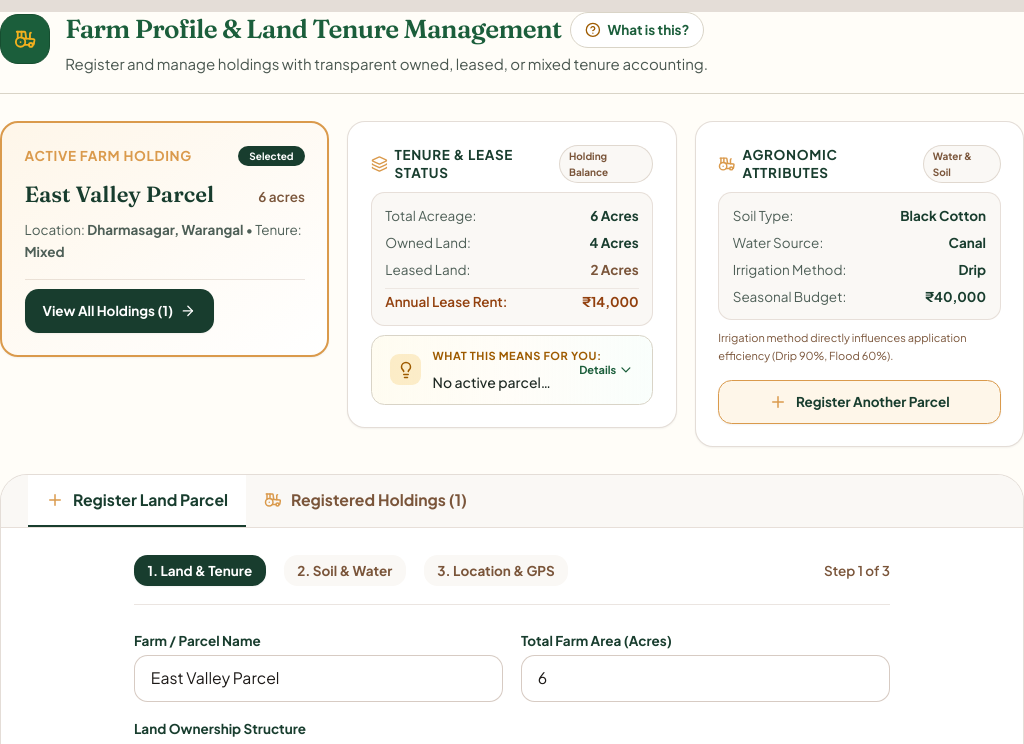
Phase 5: State & District Cascading Dropdowns with Verified Coordinates › changing state resets district to the first district of the new state and updates coordinates
# Jump to Step 3
Click the button "3. Location & GPS" at [496, 571], box [424,555,568,586]
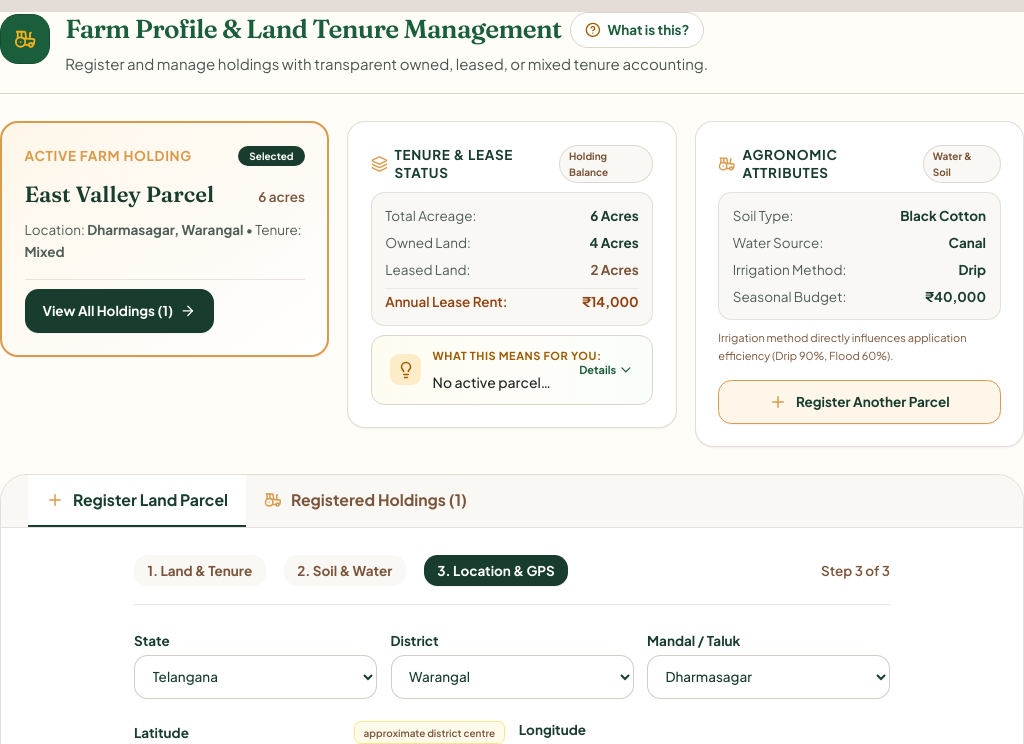
# Change state to Andhra Pradesh
Select "Andhra Pradesh" in the dropdown labelled "State" at [256, 677], box [134,655,377,699]
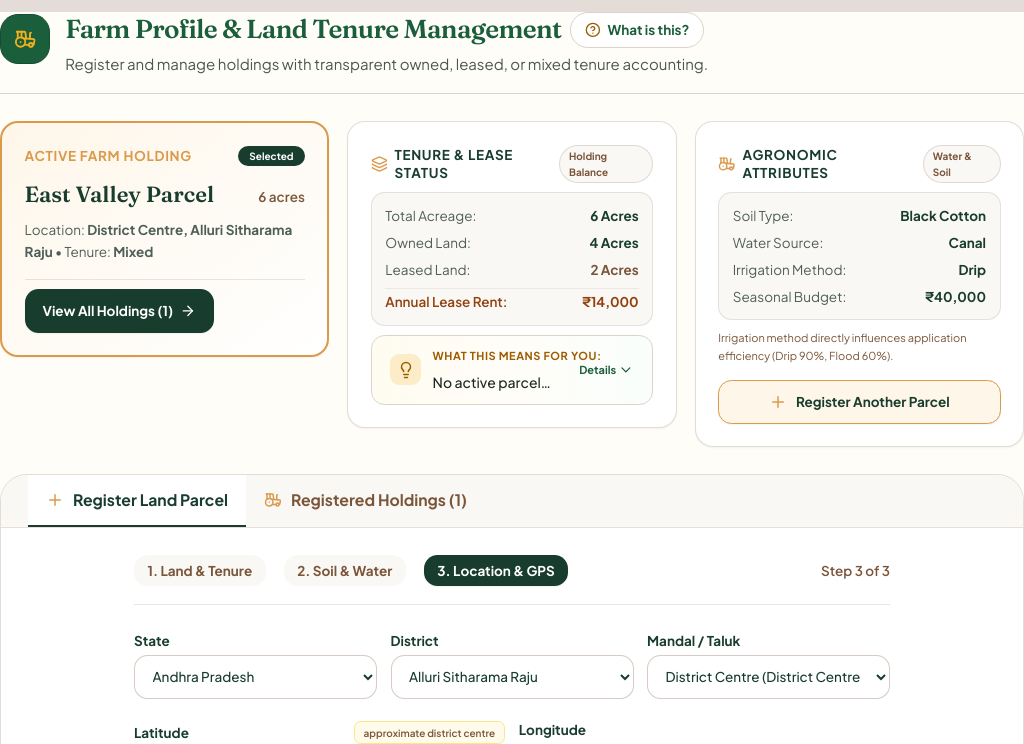
Check: the dropdown labelled "District" shows "Alluri Sitharama Raju", box [390,655,634,699]
